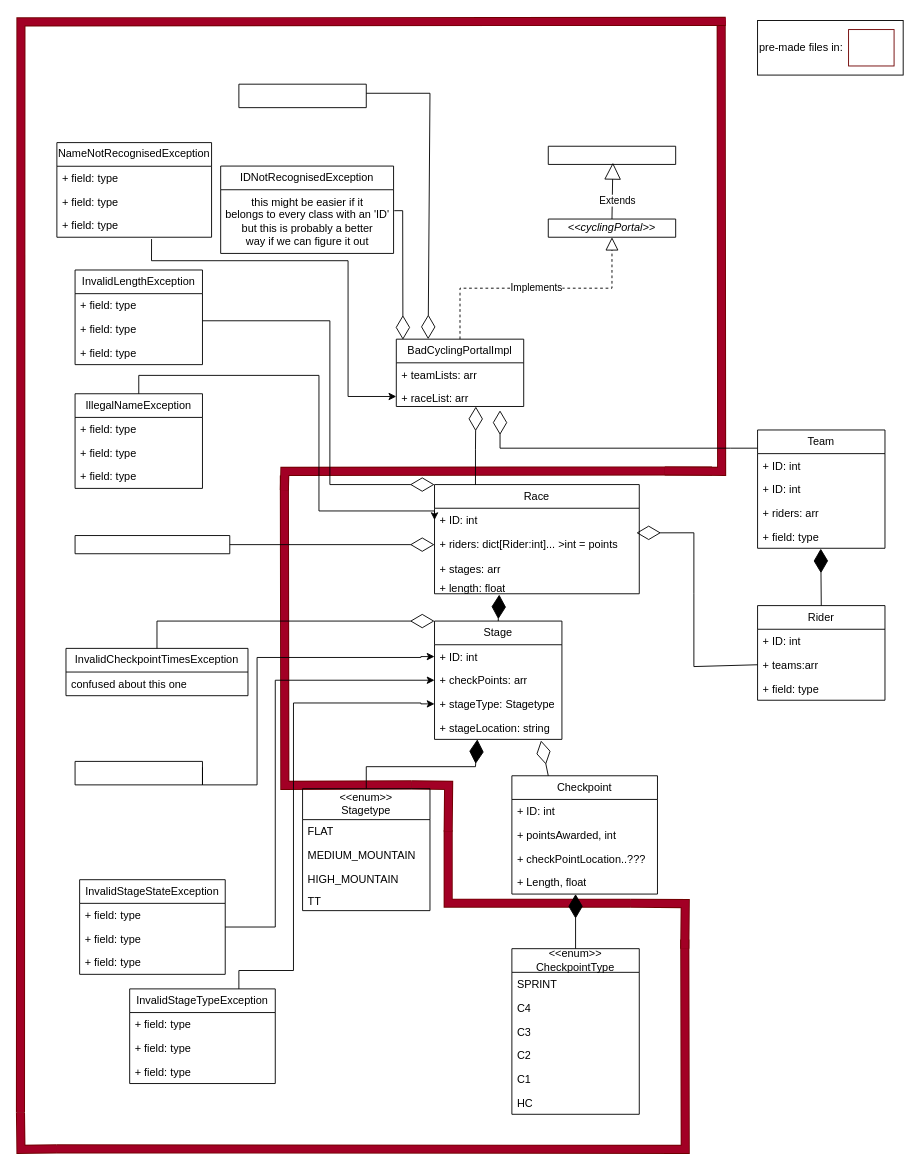
This 919x1170 diagram has some shape labels left out. The shapes that lost their labels are listed below. From the top down, each one's centre as x and y in pixels, then its label:
the point at 302,95: InvalidNameException
the point at 611,154: <<minicyclingportal>>
the point at 152,544: DuplicatedResultsException
the point at 138,772: InvalidLocationException
